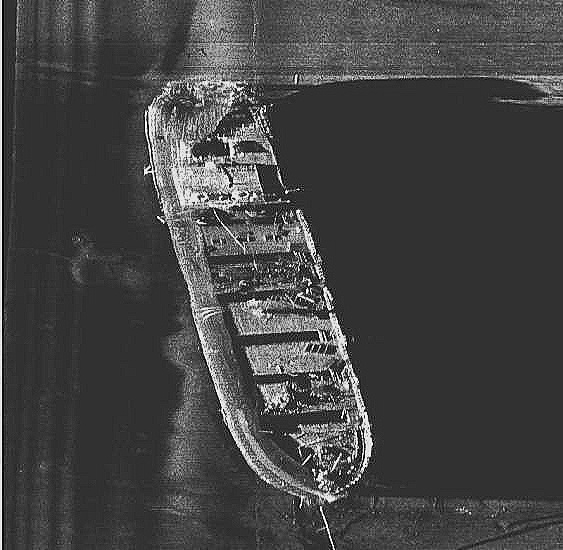ship: (140, 71, 377, 507)
